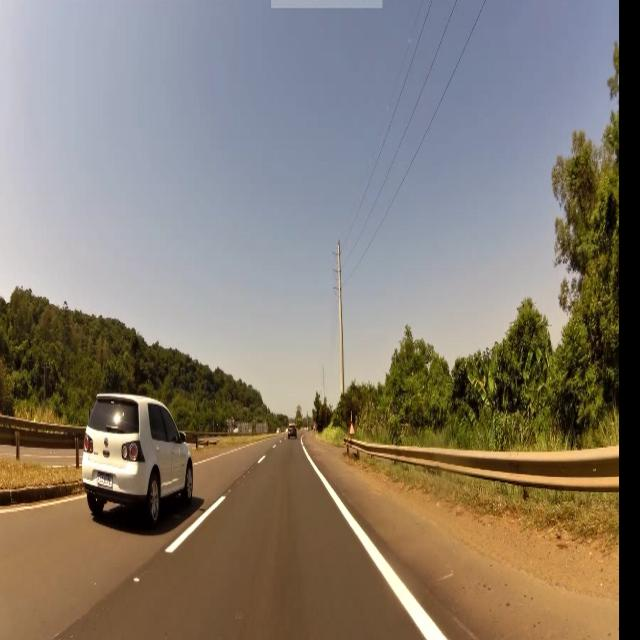R-2: (348, 424, 358, 437)
